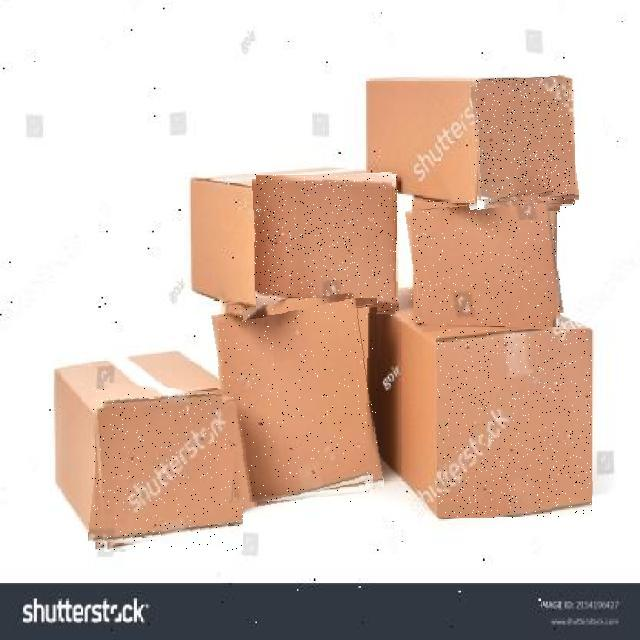BoxFace: (218, 298, 377, 504), (437, 330, 592, 518), (92, 386, 243, 552), (254, 174, 398, 317), (409, 196, 560, 327), (474, 78, 575, 208)
